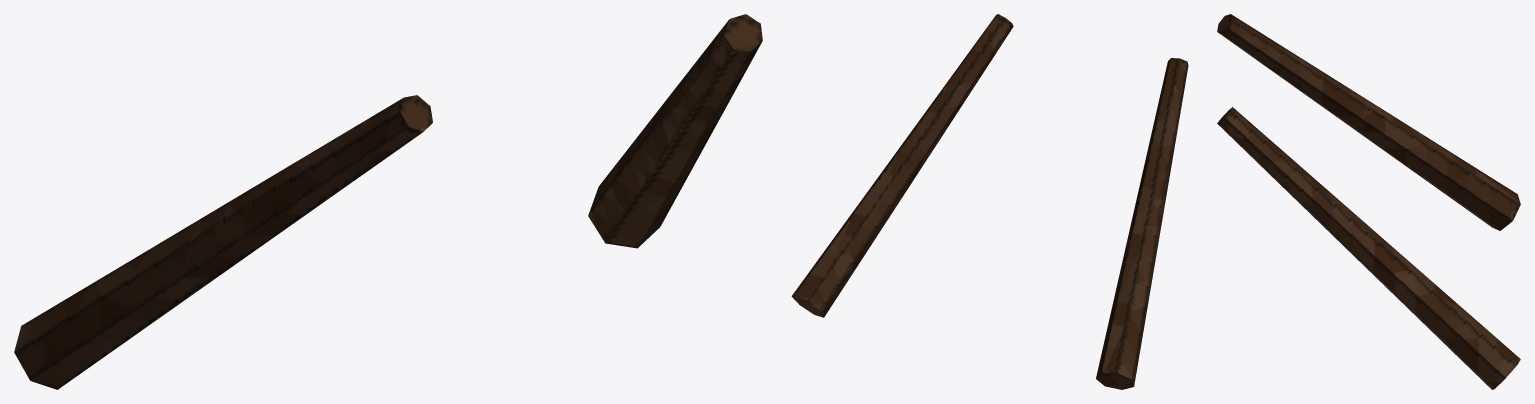
The model's file is garden_root_pavilion_roots.obj.
3 views of the same model, side by side, from view 1: azimuth 30°, elevation 25°; view 2: azimuth 150°, elevation 25°; view 3: azimuth 270°, elevation 25° (orthographic). The views are drawn at different scales.
Bounding box in the file's own units: 5.1 × 3.26 × 3.64.
Materials: 1 (1 with a texture image).
